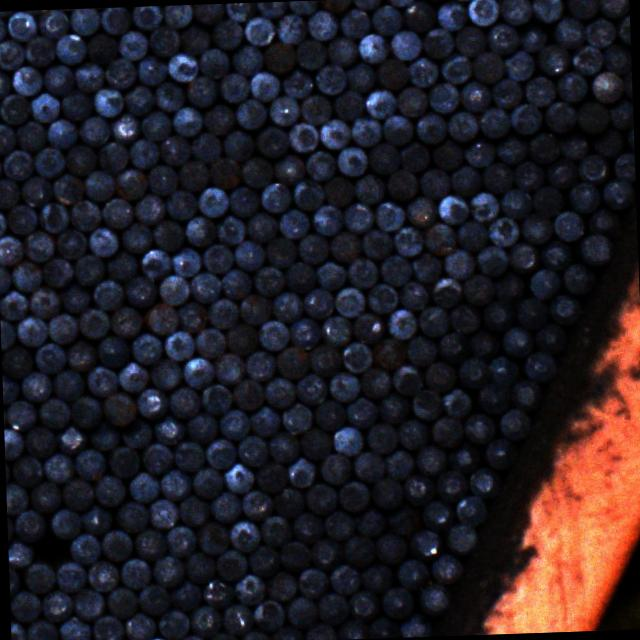tool: (337, 52, 385, 102), (150, 216, 186, 254), (112, 498, 149, 534), (536, 237, 576, 270), (428, 549, 464, 584), (497, 406, 533, 441), (101, 392, 138, 426), (546, 292, 584, 325), (308, 342, 343, 377), (535, 41, 570, 76), (417, 582, 453, 616), (131, 526, 167, 560), (370, 335, 406, 369), (8, 256, 42, 292), (506, 238, 540, 274), (514, 18, 550, 52), (550, 14, 586, 48), (576, 233, 613, 266), (167, 383, 201, 418), (304, 482, 338, 517), (26, 284, 61, 318), (441, 246, 476, 280), (422, 222, 457, 256), (84, 31, 118, 66), (380, 585, 416, 618), (443, 522, 479, 555), (466, 465, 502, 498), (59, 280, 92, 316), (360, 559, 394, 593), (22, 560, 56, 594), (118, 555, 152, 589), (182, 550, 216, 584), (68, 530, 102, 564), (68, 394, 102, 428), (402, 472, 436, 506), (262, 376, 296, 410), (274, 344, 308, 378), (500, 324, 534, 358), (287, 316, 321, 350), (104, 248, 138, 282), (22, 228, 56, 262), (100, 196, 134, 230), (528, 266, 562, 300), (520, 212, 554, 246), (213, 212, 247, 246), (276, 206, 310, 240), (196, 184, 230, 218), (461, 133, 495, 167), (526, 128, 560, 162), (202, 102, 236, 136), (274, 12, 308, 46), (336, 6, 370, 40), (522, 72, 556, 106), (590, 70, 624, 104), (502, 48, 536, 82), (484, 20, 518, 54), (369, 477, 404, 510), (483, 436, 518, 469), (298, 426, 331, 461), (396, 416, 429, 451), (456, 355, 489, 390), (72, 251, 105, 286), (309, 202, 344, 235), (362, 86, 397, 119), (10, 452, 42, 488), (532, 320, 568, 352), (142, 302, 178, 334), (586, 206, 622, 238), (220, 601, 254, 634), (284, 596, 318, 629), (196, 520, 229, 554), (322, 507, 356, 540), (12, 509, 46, 542), (28, 480, 62, 513), (184, 409, 218, 442), (18, 369, 52, 402), (148, 357, 182, 390), (351, 450, 385, 483), (448, 441, 482, 474), (248, 404, 282, 437), (408, 387, 442, 420), (511, 377, 544, 411), (294, 370, 327, 404), (388, 363, 422, 396), (243, 348, 276, 382), (514, 295, 548, 328), (76, 306, 109, 340), (108, 305, 142, 338), (50, 170, 84, 203), (0, 148, 34, 181), (461, 272, 494, 306), (486, 215, 520, 248), (119, 221, 153, 254), (373, 198, 406, 232), (240, 155, 274, 188), (398, 138, 431, 172), (188, 131, 222, 164), (600, 177, 634, 210), (542, 100, 575, 134), (280, 66, 314, 99), (376, 56, 409, 90), (10, 63, 43, 97), (104, 57, 138, 90), (262, 41, 296, 74), (177, 20, 210, 54), (156, 608, 191, 640), (104, 586, 139, 618), (413, 443, 448, 475), (326, 370, 361, 402), (333, 286, 368, 318), (574, 100, 609, 132), (314, 61, 346, 96), (439, 52, 474, 84), (600, 39, 632, 74), (200, 576, 236, 607), (421, 361, 457, 392), (204, 436, 237, 469), (280, 401, 313, 434), (95, 140, 128, 173), (379, 254, 412, 287), (263, 235, 296, 268), (435, 193, 468, 226), (115, 166, 148, 199), (46, 118, 79, 151), (330, 88, 363, 121), (249, 70, 282, 103), (210, 16, 243, 49), (253, 598, 285, 632), (10, 589, 42, 623), (72, 588, 106, 620), (394, 557, 428, 589), (150, 554, 184, 586), (342, 534, 376, 566), (100, 528, 132, 562), (421, 498, 455, 530), (48, 507, 80, 541), (92, 474, 126, 506), (126, 471, 160, 503), (190, 466, 224, 498), (74, 448, 108, 480), (106, 444, 140, 476), (56, 422, 90, 454), (120, 416, 154, 448), (38, 396, 70, 430), (134, 388, 168, 420), (116, 359, 148, 393), (0, 344, 32, 378), (64, 338, 98, 370), (130, 332, 164, 364), (194, 326, 228, 358), (238, 489, 272, 521), (254, 458, 286, 492), (331, 424, 365, 456), (313, 398, 347, 430), (376, 390, 408, 424), (477, 382, 511, 414), (522, 350, 556, 382), (417, 304, 449, 338), (448, 302, 482, 334), (481, 298, 515, 330), (16, 313, 48, 347), (55, 227, 89, 259), (86, 225, 120, 257), (68, 198, 100, 232), (21, 174, 53, 208), (34, 144, 66, 178), (366, 282, 398, 316), (430, 274, 462, 308), (492, 269, 526, 301), (124, 274, 156, 308), (156, 273, 190, 305), (249, 264, 283, 296), (282, 260, 316, 292), (314, 258, 348, 290), (328, 230, 362, 262), (134, 192, 166, 226), (512, 158, 546, 190), (546, 154, 578, 188), (334, 145, 368, 177), (495, 128, 527, 162), (286, 121, 320, 153), (509, 102, 543, 134), (562, 262, 596, 294), (553, 209, 585, 243), (567, 180, 601, 212), (427, 80, 459, 114), (229, 44, 263, 76), (390, 28, 422, 62), (555, 71, 589, 103), (472, 48, 504, 82), (488, 353, 519, 388), (416, 167, 451, 198), (348, 587, 380, 620), (295, 566, 328, 598), (328, 562, 361, 594), (54, 561, 87, 593), (215, 548, 248, 580), (248, 543, 280, 576), (278, 539, 310, 572), (374, 531, 406, 564), (355, 505, 388, 537), (61, 478, 94, 510), (140, 441, 172, 474), (172, 438, 204, 471), (23, 426, 56, 458), (152, 412, 185, 444), (34, 341, 66, 374), (163, 328, 195, 361), (436, 469, 468, 502), (318, 452, 351, 484), (236, 433, 268, 466), (268, 430, 300, 463), (366, 421, 398, 454), (431, 415, 464, 447), (218, 408, 250, 441), (441, 386, 474, 418), (230, 378, 263, 410), (213, 352, 246, 384), (404, 334, 437, 366), (352, 311, 384, 344), (383, 308, 416, 340), (92, 278, 125, 310), (64, 142, 96, 175), (175, 300, 208, 332), (271, 289, 303, 322), (396, 278, 429, 310), (187, 270, 220, 302), (218, 266, 251, 298), (346, 256, 379, 288), (409, 250, 442, 282), (476, 243, 508, 276), (360, 228, 393, 260), (244, 210, 277, 242), (500, 187, 532, 220), (165, 188, 198, 220), (227, 184, 260, 216), (482, 160, 514, 193), (272, 151, 304, 184), (367, 142, 400, 174), (157, 134, 190, 166), (221, 130, 254, 162), (254, 125, 287, 157), (381, 113, 414, 145), (414, 111, 446, 144), (446, 110, 479, 142), (478, 105, 510, 138), (0, 91, 32, 124), (78, 114, 111, 146), (171, 105, 203, 138), (236, 98, 268, 131), (298, 92, 331, 124), (406, 55, 439, 87), (356, 32, 389, 64), (244, 13, 276, 46), (306, 8, 338, 41), (402, 0, 435, 32), (490, 77, 522, 110), (229, 518, 260, 552), (50, 368, 84, 399), (468, 326, 499, 360), (34, 8, 69, 38), (42, 590, 74, 622), (138, 584, 170, 616), (170, 578, 202, 610), (264, 568, 296, 600), (86, 560, 118, 592), (309, 537, 341, 569), (260, 514, 292, 546), (388, 502, 420, 534), (176, 494, 208, 526), (42, 451, 74, 483), (86, 418, 118, 450), (86, 364, 118, 396), (182, 356, 214, 388), (97, 334, 129, 366), (208, 492, 240, 524), (338, 480, 370, 512), (438, 331, 470, 363), (320, 314, 352, 346), (6, 202, 38, 234), (37, 200, 69, 232), (240, 293, 272, 325), (302, 286, 334, 318), (139, 246, 171, 278), (170, 244, 202, 276), (233, 238, 265, 270), (392, 224, 424, 256), (184, 214, 216, 246), (467, 188, 499, 220), (292, 178, 324, 210), (322, 174, 354, 206), (354, 172, 386, 204), (450, 164, 482, 196), (208, 157, 240, 189), (430, 137, 462, 169), (139, 108, 171, 140), (267, 94, 299, 126), (396, 85, 428, 117), (122, 82, 154, 114), (186, 76, 218, 108), (42, 64, 74, 96), (295, 37, 327, 69), (422, 26, 454, 58), (24, 34, 56, 66), (54, 32, 86, 64), (146, 24, 178, 56), (454, 24, 486, 56), (158, 468, 191, 499), (4, 398, 37, 429), (256, 318, 289, 349), (531, 184, 564, 215), (176, 160, 209, 191), (349, 115, 382, 146), (434, 0, 467, 31), (408, 528, 442, 558), (454, 495, 488, 525), (384, 446, 414, 480), (360, 365, 390, 399), (226, 322, 256, 356), (42, 255, 72, 289), (397, 610, 433, 638), (317, 592, 348, 624), (235, 572, 266, 604), (292, 511, 324, 542), (272, 486, 304, 517), (223, 462, 254, 494), (464, 411, 495, 443), (345, 396, 376, 428), (341, 340, 372, 372), (47, 312, 78, 344), (84, 168, 115, 200), (202, 242, 234, 273), (296, 231, 328, 262), (456, 219, 487, 251), (342, 200, 373, 232), (386, 168, 418, 199), (318, 117, 349, 149), (4, 10, 36, 41), (92, 87, 124, 118), (136, 53, 167, 85), (166, 51, 198, 82), (116, 29, 148, 60), (458, 80, 489, 112), (570, 43, 602, 74), (207, 298, 240, 328), (591, 128, 624, 158), (16, 120, 46, 153), (218, 72, 251, 102), (198, 46, 228, 79), (98, 6, 131, 36), (123, 611, 157, 640), (190, 606, 222, 636), (80, 504, 112, 534), (147, 497, 177, 529), (201, 383, 231, 415), (285, 458, 317, 488), (406, 195, 436, 227), (260, 182, 292, 212), (147, 162, 177, 194), (303, 150, 335, 180), (578, 153, 610, 183), (558, 128, 590, 158), (154, 80, 186, 110), (74, 60, 104, 92), (327, 34, 357, 66), (370, 4, 402, 34), (585, 15, 615, 47), (166, 524, 195, 557), (61, 90, 92, 120), (32, 91, 61, 123), (0, 286, 27, 320), (128, 138, 158, 168), (110, 112, 140, 142), (59, 613, 92, 640), (90, 614, 124, 640), (7, 536, 34, 568), (70, 8, 100, 36), (130, 6, 162, 32), (499, 0, 531, 26), (0, 37, 25, 70), (467, 0, 498, 26), (25, 617, 60, 640), (6, 480, 28, 516), (608, 98, 634, 128), (336, 618, 371, 640), (0, 232, 23, 265), (163, 4, 192, 30), (530, 0, 564, 22), (612, 150, 636, 181), (0, 176, 22, 209), (369, 614, 399, 638), (222, 2, 257, 22), (564, 0, 598, 19), (305, 620, 337, 640), (192, 3, 224, 23), (4, 427, 22, 459), (256, 1, 289, 18), (0, 318, 17, 350), (598, 0, 628, 18), (271, 624, 304, 640), (0, 122, 16, 154), (2, 373, 18, 403), (287, 0, 318, 15), (0, 65, 11, 98), (318, 0, 351, 11), (0, 262, 11, 294), (10, 619, 26, 640), (0, 12, 5, 42)
void: (32, 530, 72, 566)
